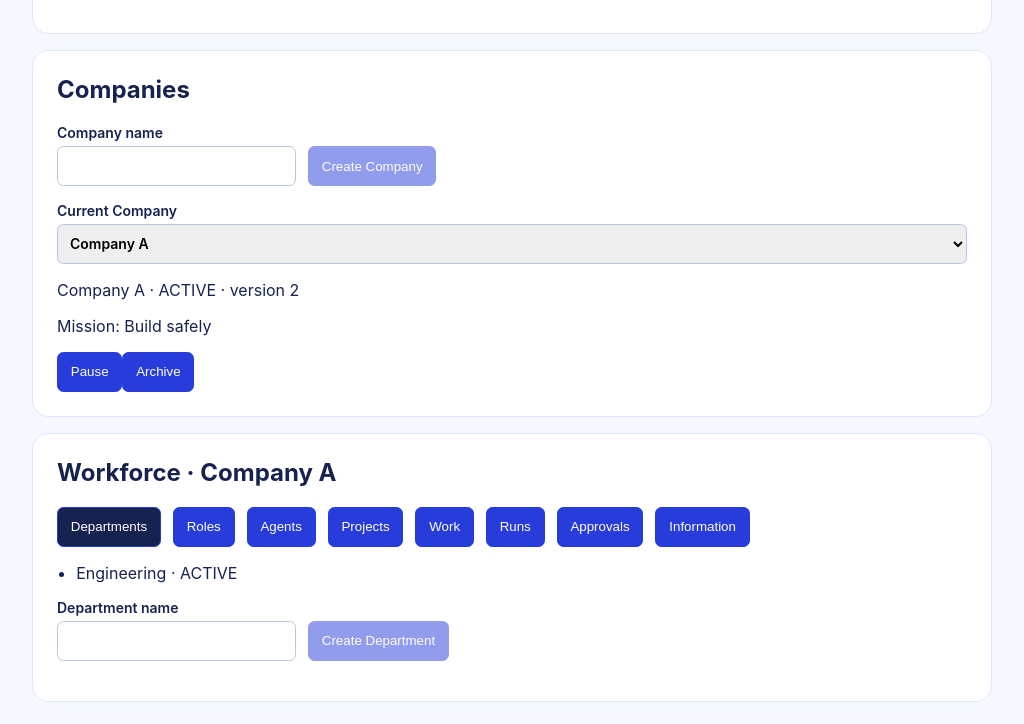
Test: shows workspace provider settings and isolated workforce controls
(page scrolled)
Expected: the heading "Workforce · Company A" is shown, [57,458,336,487]
Expected: the list item "Engineering · ACTIVE" is shown, [76,563,238,583]
Click the button "Agents".
click(281, 527)  # box [247,507,316,547]
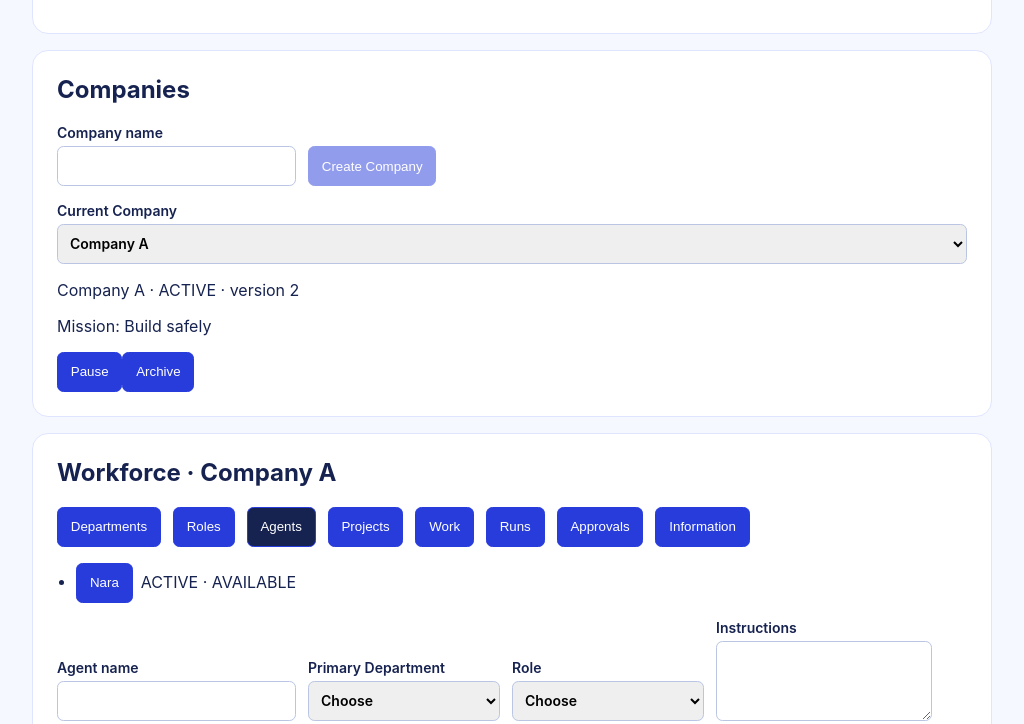
Result: the button "Nara" is shown
Click the button "Nara".
click(104, 583)  # box [76,563,133,603]
(page scrolled)
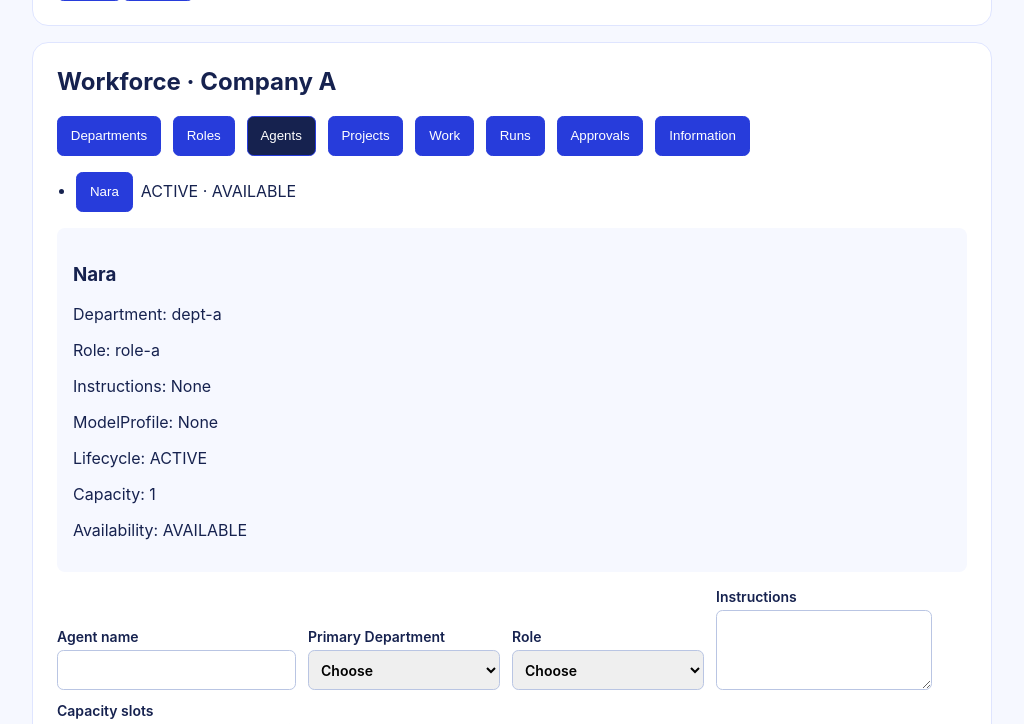
Result: the text "Role: role-a" is shown at [73,340,160,360]
